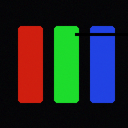3 line_h: (75, 33, 127, 35)
